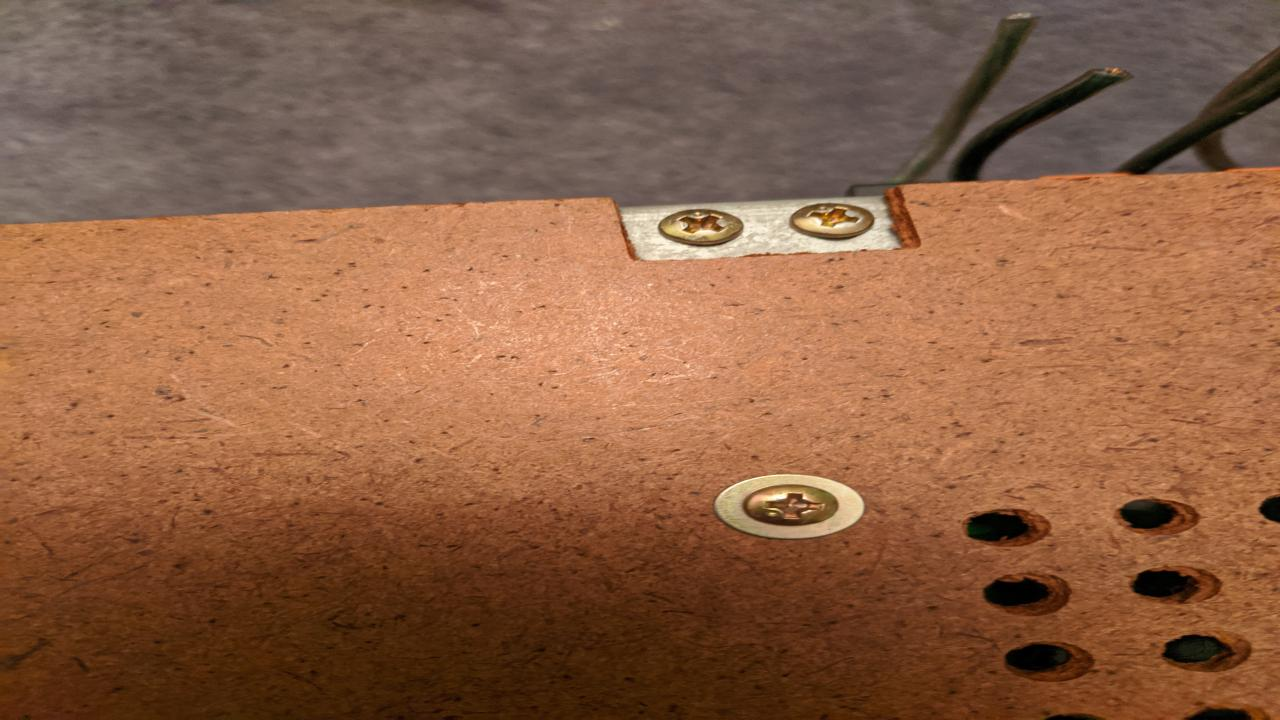CRS: (740, 483, 844, 526), (654, 206, 749, 246), (791, 202, 873, 237)
